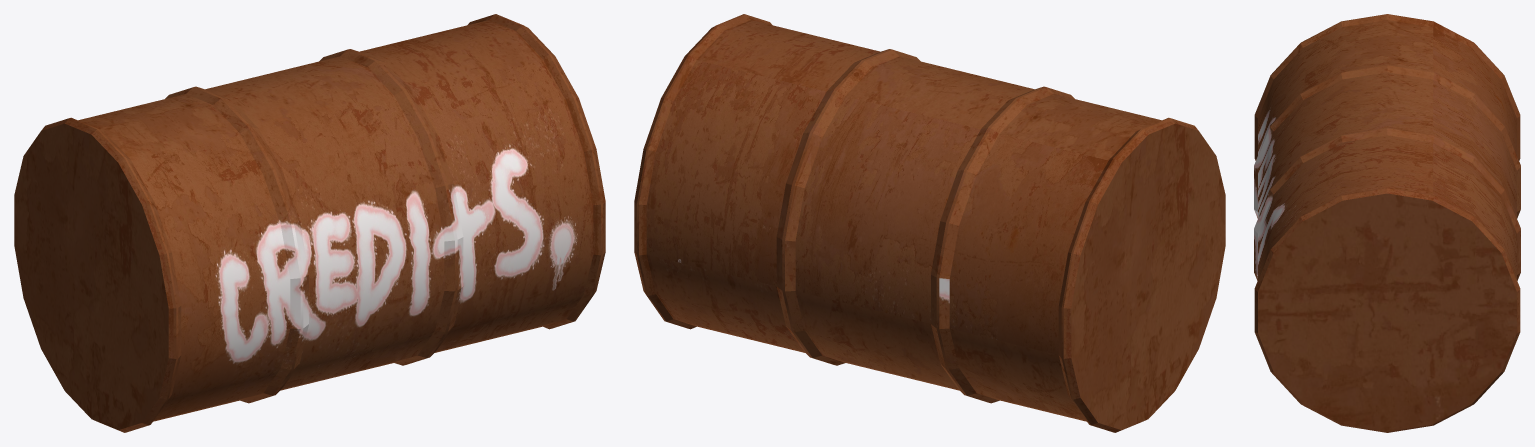
Rendered from Menu_Barrel.fbx.
The picture shows the model from 3 angles, left to right: view 1: azimuth 30°, elevation 25°; view 2: azimuth 150°, elevation 25°; view 3: azimuth 270°, elevation 25°; orthographic projection. The views are drawn at different scales.
Parts seen in each view (by area): view 1: Cylinder01; view 2: Cylinder01; view 3: Cylinder01.
Part boxes in pixels (x1,y1,x2,y2): Cylinder01: (14, 14, 605, 432); Cylinder01: (634, 14, 1225, 432); Cylinder01: (1254, 14, 1520, 432).
Bounding box in the file's own units: 98.45 × 63.16 × 62.2.
